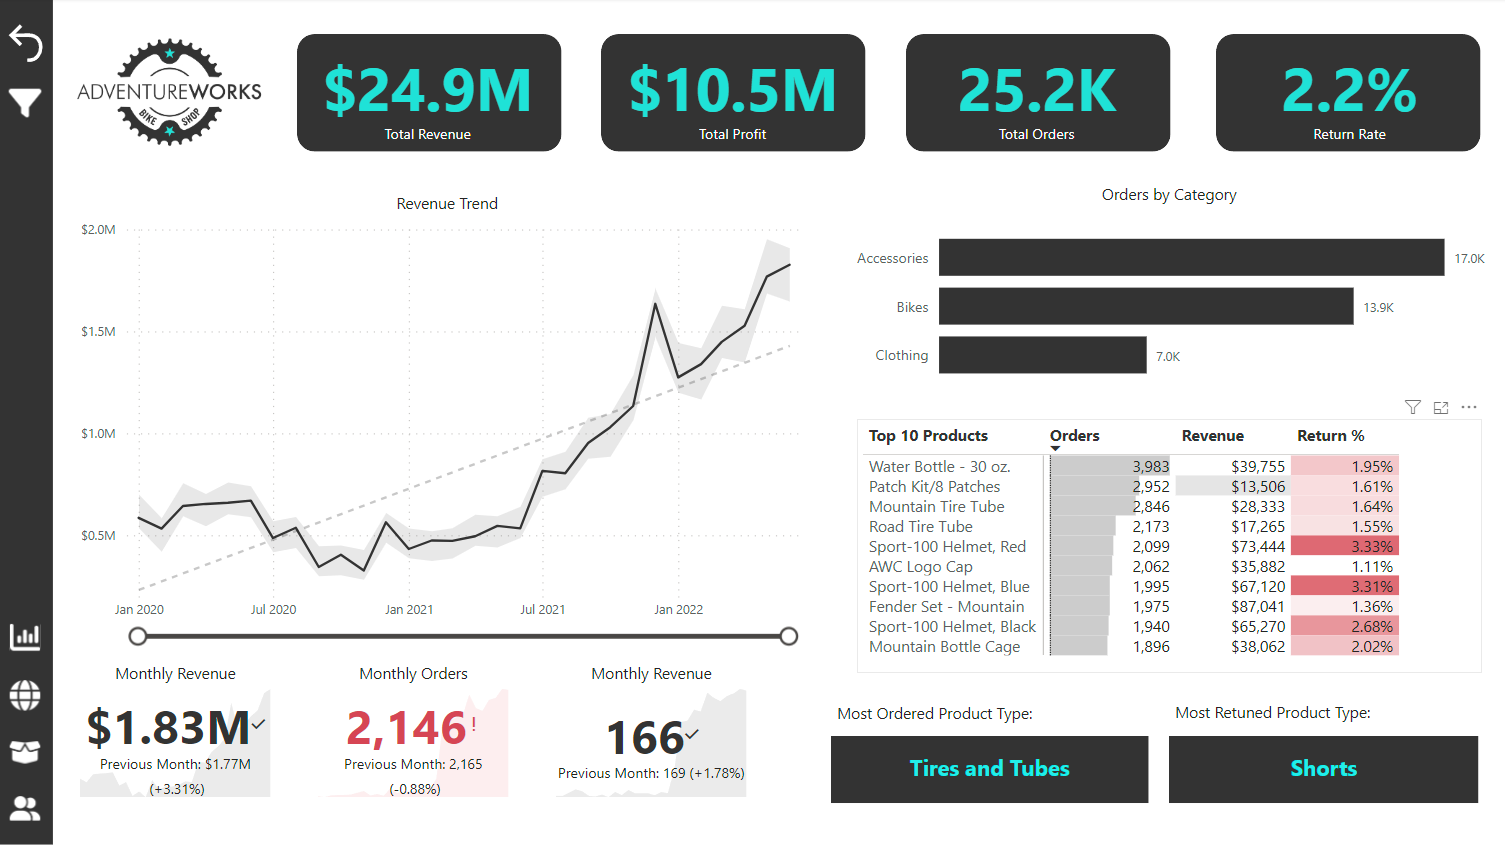

The dashboard page shown, as its layout file describes it:
{"tool":"powerbi","page":{"name":"Exec Dashboard","canvas":[1280,720],"ordinal":0},"visuals":[{"type":"card","fields":{"Values":["Measure Table.Total Revenue"]},"box":[232,17,263,132],"z":0,"group":"g2"},{"type":"group","id":"g1","title":"KPI Background","box":[252,30.8,1006.6,100],"z":0,"group":"g3"},{"type":"shape","box":[252,30.8,225,100],"z":0,"group":"g1"},{"type":"actionButton","box":[0,478,43,40],"z":0},{"type":"actionButton","box":[4.6,524.8,34,37.7],"z":0,"group":"g4"},{"type":"image","title":"AW Logo","box":[43,11,202,138],"z":1000},{"type":"group","id":"g2","title":"KPI Values","box":[232,17,1048,132],"z":1000,"group":"g3"},{"type":"card","fields":{"Values":["Measure Table.Total Profit"]},"box":[491,17,263,132],"z":1000,"group":"g2"},{"type":"shape","box":[1033.6,30.8,225,100],"z":1000,"group":"g1"},{"type":"actionButton","box":[4.6,574.4,34,37.7],"z":1000,"group":"g4"},{"type":"shape","title":"Left Nav Background","box":[0,0,45,720],"z":2000},{"type":"card","fields":{"Values":["Measure Table.Total Orders"]},"box":[750,17,263,132],"z":2000,"group":"g2"},{"type":"shape","box":[769.6,30.8,225,100],"z":2000,"group":"g1"},{"type":"actionButton","box":[4.6,622.2,34,37.7],"z":2000,"group":"g4"},{"type":"group","id":"g3","title":"KPIs","box":[232,17,1048,132],"z":3000},{"type":"card","fields":{"Values":["Measure Table.Return Rate"]},"box":[1016,17,263,132],"z":3000,"group":"g2"},{"type":"shape","box":[510.8,30.8,225,100],"z":3000,"group":"g1"},{"type":"actionButton","box":[4.6,670,34,37.7],"z":3000,"group":"g4"},{"type":"lineChart","title":"Revenue Trend","fields":{"Y":["Measure Table.Total Revenue"],"Category":["Calendar Lookup.Start of Month"]},"box":[62.7,165.7,634.6,388.1],"z":4000},{"type":"kpi","title":"Monthly Revenue","fields":{"Indicator":["Measure Table.Total Revenue"],"TrendLine":["Calendar Lookup.Start of Month"],"Goal":["Measure Table.Previous Month Revenue"]},"box":[63.2,565.7,172.3,119.1],"z":5000},{"type":"kpi","title":"Monthly Revenue","fields":{"TrendLine":["Calendar Lookup.Start of Month"],"Indicator":["Measure Table.Total Returns"],"Goal":["Measure Table.Previous Month Returns"]},"box":[467.4,565.7,172.3,119.1],"z":6000},{"type":"kpi","title":"Monthly Orders","fields":{"TrendLine":["Calendar Lookup.Start of Month"],"Indicator":["Measure Table.Total Orders"],"Goal":["Measure Table.Previous Month Orders"]},"box":[265.3,565.7,172.3,119.1],"z":7000},{"type":"clusteredBarChart","title":" Orders by Category","fields":{"Category":["Product Categories Lookup.CategoryName"],"Y":["Measure Table.Total Orders"]},"box":[719.1,158.1,551.5,184.5],"z":8000},{"type":"pivotTable","fields":{"Rows":["Product Lookup.ProductName"],"Values":["Measure Table.Total Orders","Measure Table.Total Revenue","Measure Table.Return Rate"]},"box":[728.5,357.6,531.8,216.5],"z":9000},{"type":"card","fields":{"Values":["Min(Product Subcategories Lookup.SubcategoryName)"]},"box":[706.5,628,269.9,57],"z":10000},{"type":"textbox","box":[706.5,594.6,193.5,33.3],"z":11000},{"type":"textbox","box":[994.6,593.5,193.5,33.3],"z":12000},{"type":"card","fields":{"Values":["Min(Product Subcategories Lookup.SubcategoryName)"]},"box":[994.6,628,263.4,57],"z":13000},{"type":"actionButton","box":[1.2,17,45,42.5],"z":14000},{"type":"group","id":"g4","title":"Navigation Buttons","box":[4.6,524.8,34,182.9],"z":15000},{"type":"actionButton","box":[3.8,71.5,41.4,35.8],"z":16000}]}

Visuals, with their boxes on the page's 1280x720 design canvas (x1, y1, x2, y2). These are canvas units, not pixel positions in the 1505x845 screenshot, which may show the page scaled, cropped or inside an application window:
card - Measure Table.Total Revenue: BBox(232, 17, 495, 149)
"KPI Background" group: BBox(252, 31, 1259, 131)
shape: BBox(252, 31, 477, 131)
actionButton: BBox(0, 478, 43, 518)
actionButton: BBox(5, 525, 39, 562)
"AW Logo" image: BBox(43, 11, 245, 149)
"KPI Values" group: BBox(232, 17, 1280, 149)
card - Measure Table.Total Profit: BBox(491, 17, 754, 149)
shape: BBox(1034, 31, 1259, 131)
actionButton: BBox(5, 574, 39, 612)
"Left Nav Background" shape: BBox(0, 0, 45, 720)
card - Measure Table.Total Orders: BBox(750, 17, 1013, 149)
shape: BBox(770, 31, 995, 131)
actionButton: BBox(5, 622, 39, 660)
"KPIs" group: BBox(232, 17, 1280, 149)
card - Measure Table.Return Rate: BBox(1016, 17, 1279, 149)
shape: BBox(511, 31, 736, 131)
actionButton: BBox(5, 670, 39, 708)
"Revenue Trend" lineChart: BBox(63, 166, 697, 554)
"Monthly Revenue" kpi: BBox(63, 566, 236, 685)
"Monthly Revenue" kpi: BBox(467, 566, 640, 685)
"Monthly Orders" kpi: BBox(265, 566, 438, 685)
" Orders by Category" clusteredBarChart: BBox(719, 158, 1271, 343)
pivotTable - Product Lookup.ProductName x Measure Table.Total Orders: BBox(728, 358, 1260, 574)
card - Min(Product Subcategories Lookup.SubcategoryName): BBox(706, 628, 976, 685)
textbox: BBox(706, 595, 900, 628)
textbox: BBox(995, 594, 1188, 627)
card - Min(Product Subcategories Lookup.SubcategoryName): BBox(995, 628, 1258, 685)
actionButton: BBox(1, 17, 46, 60)
"Navigation Buttons" group: BBox(5, 525, 39, 708)
actionButton: BBox(4, 72, 45, 107)
